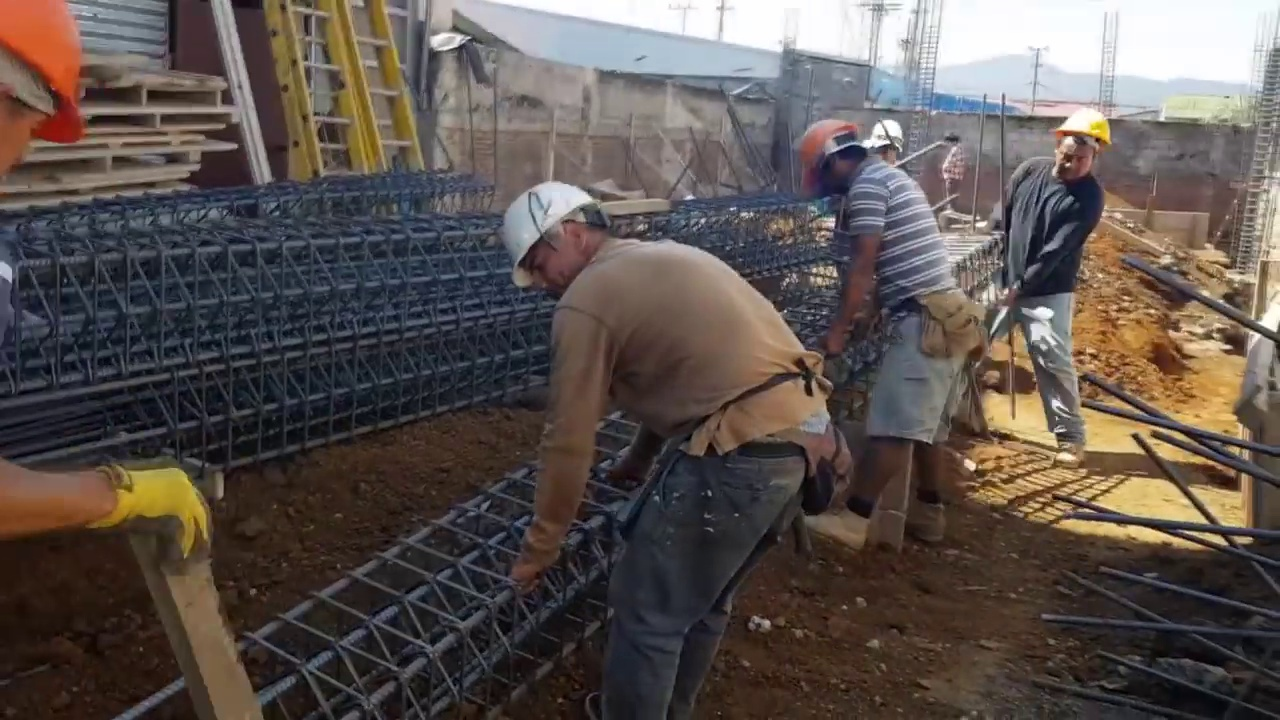helmet: (2, 6, 91, 142), (502, 178, 606, 291), (798, 116, 868, 182), (1057, 106, 1115, 147), (868, 119, 906, 145)
helmet-off: (943, 130, 961, 150)
helmet-on: (500, 167, 624, 302), (0, 6, 92, 185), (795, 113, 874, 193), (1048, 107, 1115, 180), (866, 118, 906, 167)
person: (487, 170, 847, 719), (797, 115, 981, 549), (988, 83, 1122, 458), (940, 130, 965, 215)
